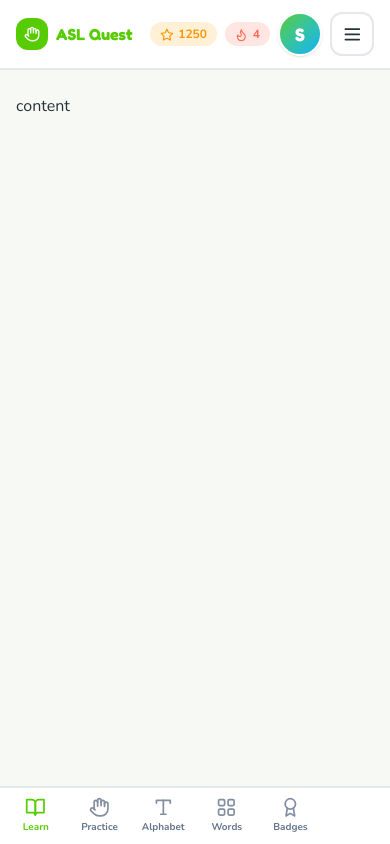
AppShell navigation › closes the More menu when the page changes
Click the button named "More pages".
click(352, 34)  # box [330, 12, 374, 56]
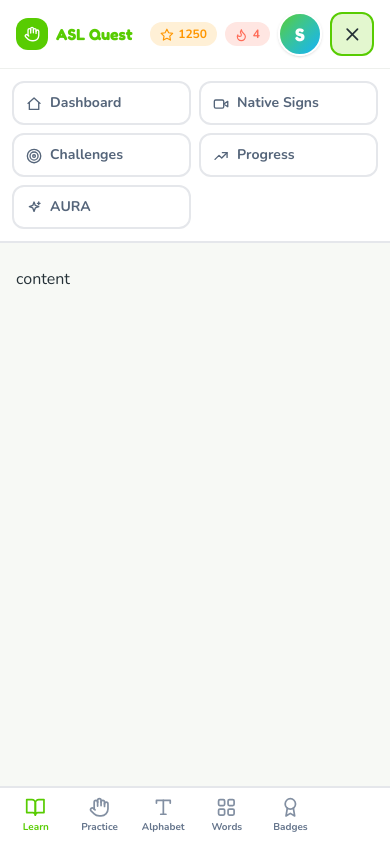
Now the navigation bar with id "mobile-more-menu" is shown, box [0, 68, 389, 241]
